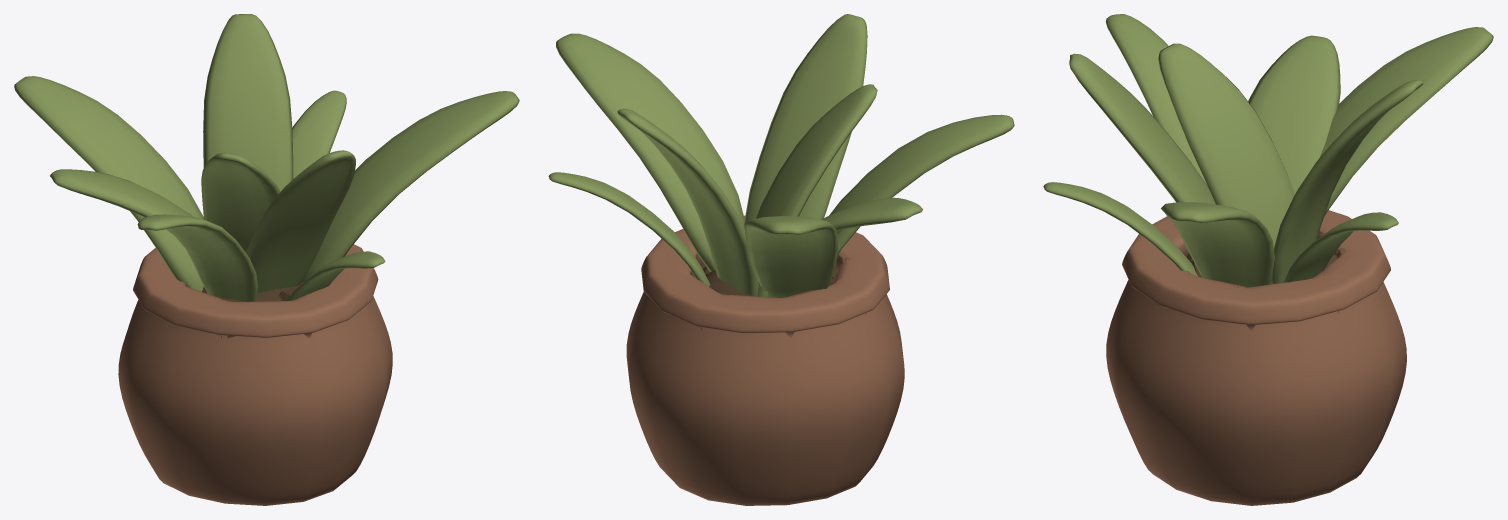
The model's file is Plant 01.fbx.
The picture shows the model from 3 angles, left to right: view 1: azimuth 30°, elevation 25°; view 2: azimuth 150°, elevation 25°; view 3: azimuth 270°, elevation 25°; orthographic projection. The views are drawn at different scales.
Parts seen in each view (by area): view 1: Plant_pot.001, Plant_B_Leaf.003, Plant_B_Leaf.006, Plant_B_Leaf.001, Plant_B_Leaf.002, Plant_B_Leaf.007, Plant_B_Leaf.009, Plant B, Plant_B_Leaf.008, Plant_B_Leaf.005, B_Plant_B__pot_cell.004, B_Plant_B__pot_cell.002 (+1 smaller); view 2: Plant_pot.001, Plant B, Plant_B_Leaf.001, B_Plant_B__pot_cell.002, Plant_B_Leaf.005, Plant_B_Leaf.009, Plant_B_Leaf.008, Plant_B_Leaf.003, Plant_B_Leaf.006, B_Plant_B__pot_cell.001, B_Plant_B__pot_cell.003; view 3: Plant_pot.001, Plant B, Plant_B_Leaf.008, Plant_B_Leaf.006, Plant_B_Leaf.009, Plant_B_Leaf.004, Plant_B_Leaf.003, Plant_B_Leaf.007, Plant_B_Leaf.005, B_Plant_B__pot_cell.004, Plant_B_Leaf.002, Plant_B_Leaf.001 (+2 smaller).
Boxes of the visible parts, <box> form: Plant_pot.001: <box>118,244,392,505</box>; Plant_B_Leaf.003: <box>203,14,293,191</box>; Plant_B_Leaf.006: <box>14,76,203,291</box>; Plant_B_Leaf.001: <box>303,91,519,281</box>; Plant_B_Leaf.002: <box>246,150,355,293</box>; Plant_B_Leaf.007: <box>139,217,257,301</box>; Plant_B_Leaf.009: <box>205,152,280,252</box>; Plant B: <box>39,22,518,300</box>; Plant_B_Leaf.008: <box>52,169,193,217</box>; Plant_B_Leaf.005: <box>292,90,346,178</box>; B_Plant_B__pot_cell.004: <box>223,268,352,338</box>; B_Plant_B__pot_cell.002: <box>151,255,222,339</box>; Plant_pot.001: <box>626,215,904,505</box>; Plant B: <box>549,18,1014,297</box>; Plant_B_Leaf.001: <box>560,33,744,234</box>; B_Plant_B__pot_cell.002: <box>701,255,866,337</box>; Plant_B_Leaf.005: <box>548,172,710,286</box>; Plant_B_Leaf.009: <box>766,84,877,296</box>; Plant_B_Leaf.008: <box>821,197,922,233</box>; Plant_B_Leaf.003: <box>617,108,758,296</box>; Plant_B_Leaf.006: <box>745,216,837,287</box>; B_Plant_B__pot_cell.001: <box>664,235,705,281</box>; B_Plant_B__pot_cell.003: <box>678,274,728,299</box>; Plant_pot.001: <box>1106,210,1406,505</box>; Plant B: <box>1045,14,1493,287</box>; Plant_B_Leaf.008: <box>1248,36,1336,193</box>; Plant_B_Leaf.006: <box>1319,27,1490,211</box>; Plant_B_Leaf.009: <box>1158,43,1225,205</box>; Plant_B_Leaf.004: <box>1043,182,1197,276</box>; Plant_B_Leaf.003: <box>1271,80,1423,283</box>; Plant_B_Leaf.007: <box>1105,14,1189,156</box>; Plant_B_Leaf.005: <box>1284,212,1396,282</box>; B_Plant_B__pot_cell.004: <box>1144,224,1246,308</box>; Plant_B_Leaf.002: <box>1069,53,1179,202</box>; Plant_B_Leaf.001: <box>1161,202,1245,277</box>.
Size of the model in its own units: 49.01 by 43.78 by 43.34.
